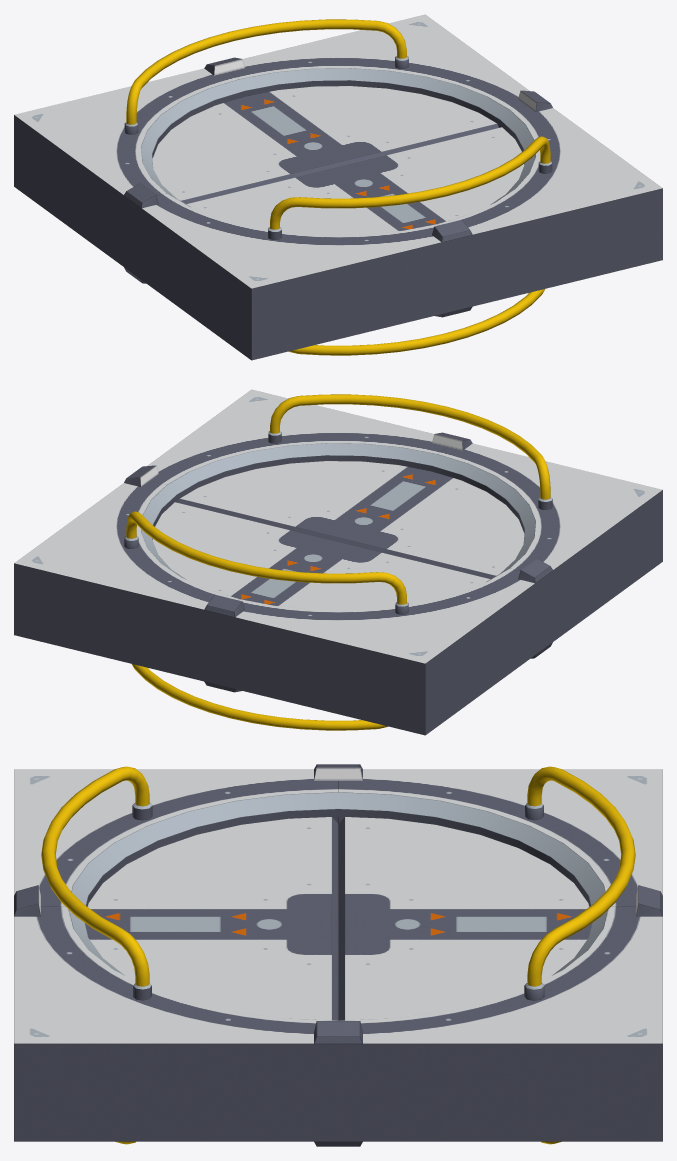
Rendered from Floor_Hole_01.FBX.
3 renders of one model, top to bottom at view 1: azimuth 30°, elevation 25°; view 2: azimuth 150°, elevation 25°; view 3: azimuth 270°, elevation 25°, orthographic. The views are drawn at different scales.
Visible parts, largest first — view 1: Floor_Hole_01, Door_B, Door_A; view 2: Floor_Hole_01, Door_A, Door_B; view 3: Floor_Hole_01, Door_A, Door_B.
Part boxes in pixels (x1,y1,x2,y2): Floor_Hole_01: (14,14,662,360); Door_B: (152,86,498,203); Door_A: (186,127,524,234); Floor_Hole_01: (14,389,662,735); Door_A: (178,461,524,578); Door_B: (152,502,490,609); Floor_Hole_01: (14,764,662,1146); Door_A: (85,817,338,1020); Door_B: (338,817,591,1020).
Bounding box in the file's own units: 6 × 2.18 × 6.
4 materials, 4 textured.
